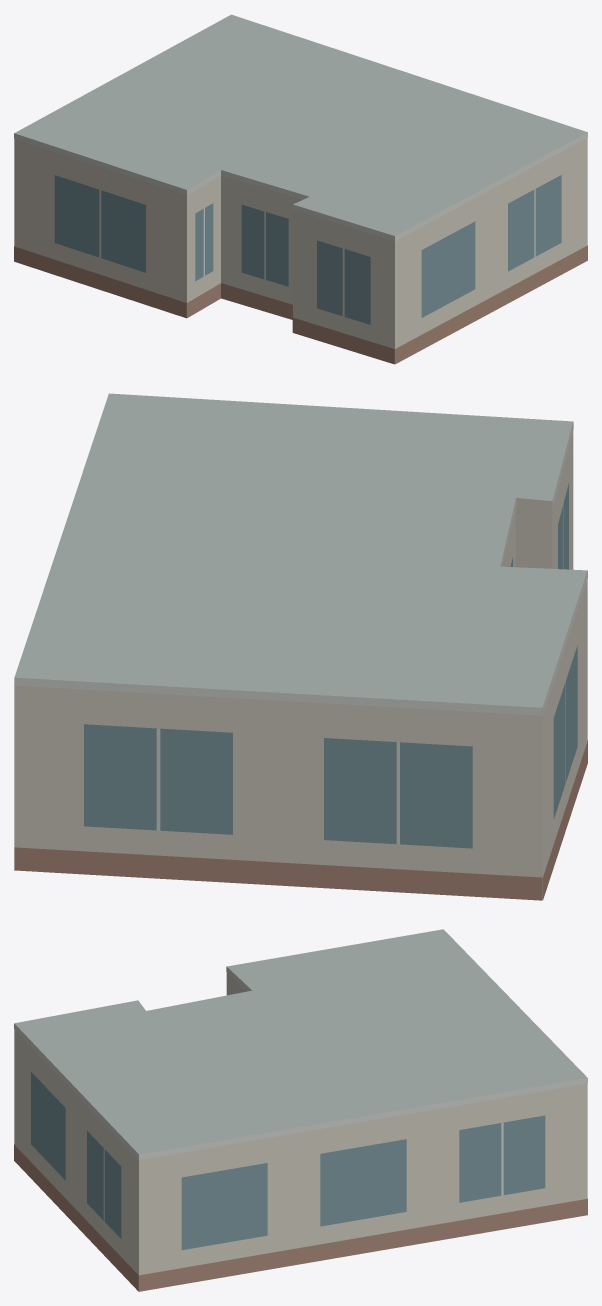
File: survey-upis-32784426.glb
3 renders of one model, top to bottom at view 1: azimuth 30°, elevation 25°; view 2: azimuth 150°, elevation 25°; view 3: azimuth 270°, elevation 25°, orthographic. The views are drawn at different scales.
Parts seen in each view (by area): view 1: survey-upis-32784426.tmp; view 2: survey-upis-32784426.tmp; view 3: survey-upis-32784426.tmp.
Part boxes in pixels (<box>): survey-upis-32784426.tmp: <box>14,14,587,364</box>; survey-upis-32784426.tmp: <box>14,393,587,900</box>; survey-upis-32784426.tmp: <box>14,929,587,1291</box>.
Size of the model in its own units: 10.74 by 3.05 by 11.55.
